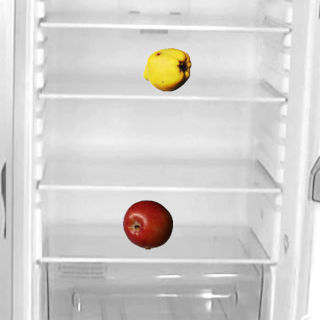Apple Braeburn: (122, 199, 172, 249)
Quince: (141, 44, 191, 94)
